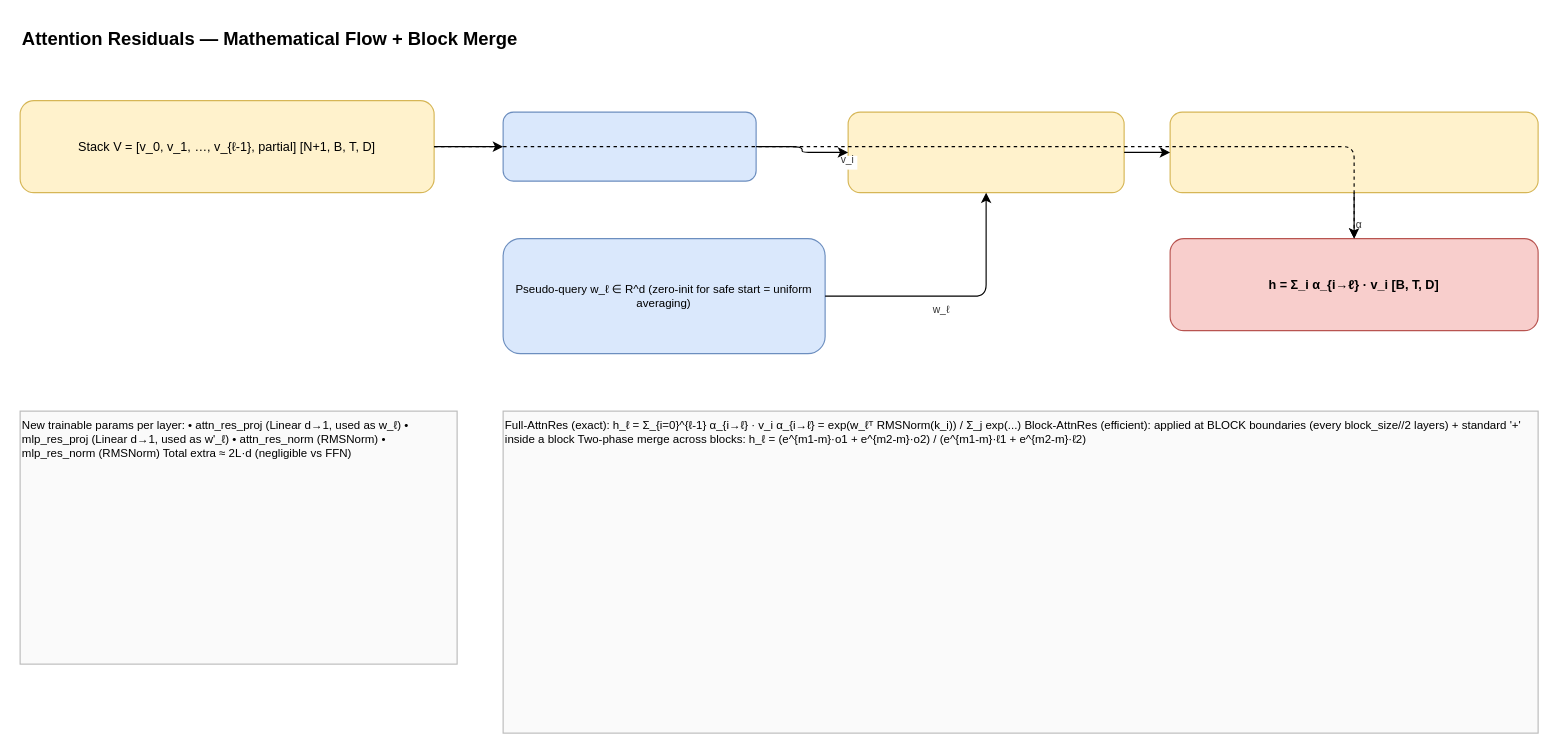
The diagram is 1558 pixels wide and 753 high, and some of its shapes have lost their labels. Here are the shapes that lost their labels. From the top down, the box of each, then its label:
(502, 111, 756, 181): K = RMSNorm(V)
(847, 111, 1124, 193): logits = w_ℓᵀ · K [N+1, B, T]
(1169, 111, 1538, 193): α = softmax(logits, dim=depth) → [N+1, B, T] non-neg, sums to 1
